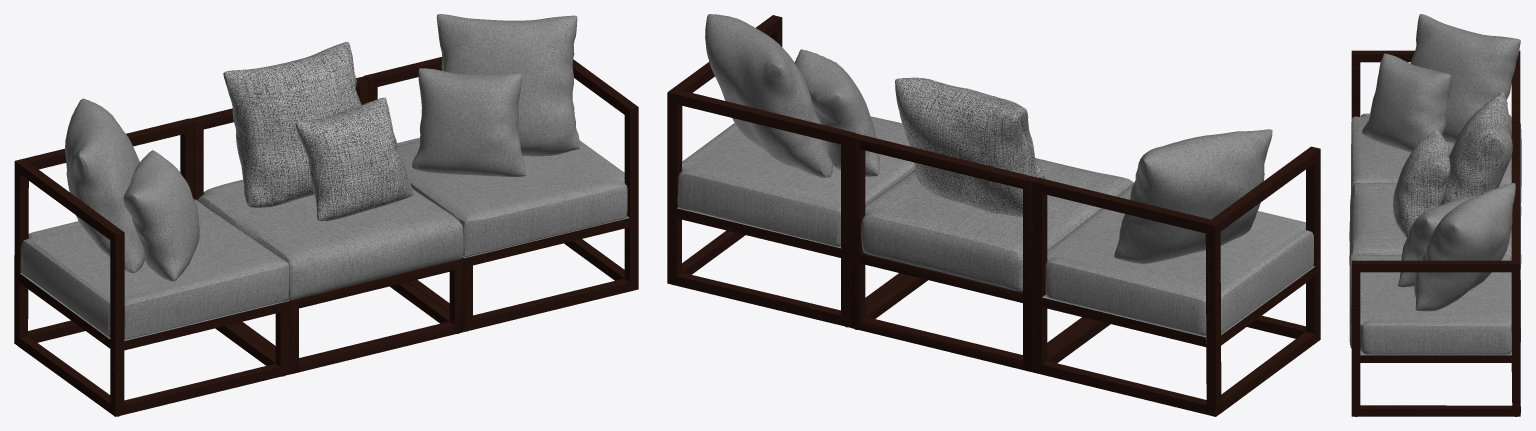
The picture shows the model from 3 angles, left to right: view 1: azimuth 30°, elevation 25°; view 2: azimuth 150°, elevation 25°; view 3: azimuth 270°, elevation 25°; orthographic projection. The views are drawn at different scales.
Visible parts, largest first — view 1: C-skp361.001, C-skp361, C-skp6C16; view 2: C-skp361.001, C-skp361, C-skp6C16; view 3: C-skp361, C-skp361.001, C-skp6C16.
Part boxes in pixels (bbox=[...]): C-skp361.001: bbox=[14, 98, 289, 416]; C-skp361: bbox=[363, 14, 638, 331]; C-skp6C16: bbox=[190, 42, 463, 374]; C-skp361.001: bbox=[1032, 129, 1320, 416]; C-skp361: bbox=[667, 14, 915, 327]; C-skp6C16: bbox=[850, 77, 1133, 371]; C-skp361: bbox=[1349, 183, 1520, 416]; C-skp361.001: bbox=[1351, 14, 1521, 202]; C-skp6C16: bbox=[1349, 92, 1521, 268].
Size of the model in its own units: 1.89 by 0.8148 by 0.6434.
Materials: 4 (3 with a texture image).
